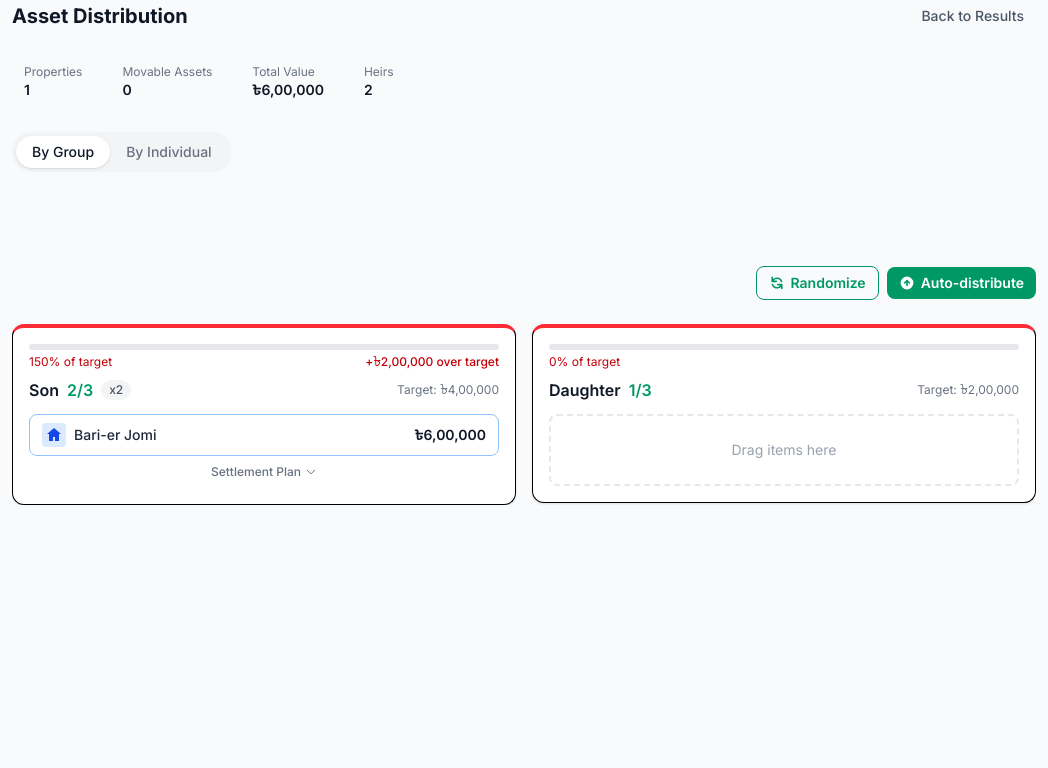
Test case: DistributionPage view toggle › shows section headers for heir types in individual view
Click the tab "By Individual" at [169, 152], box [110,136,228,168]
(page scrolled)
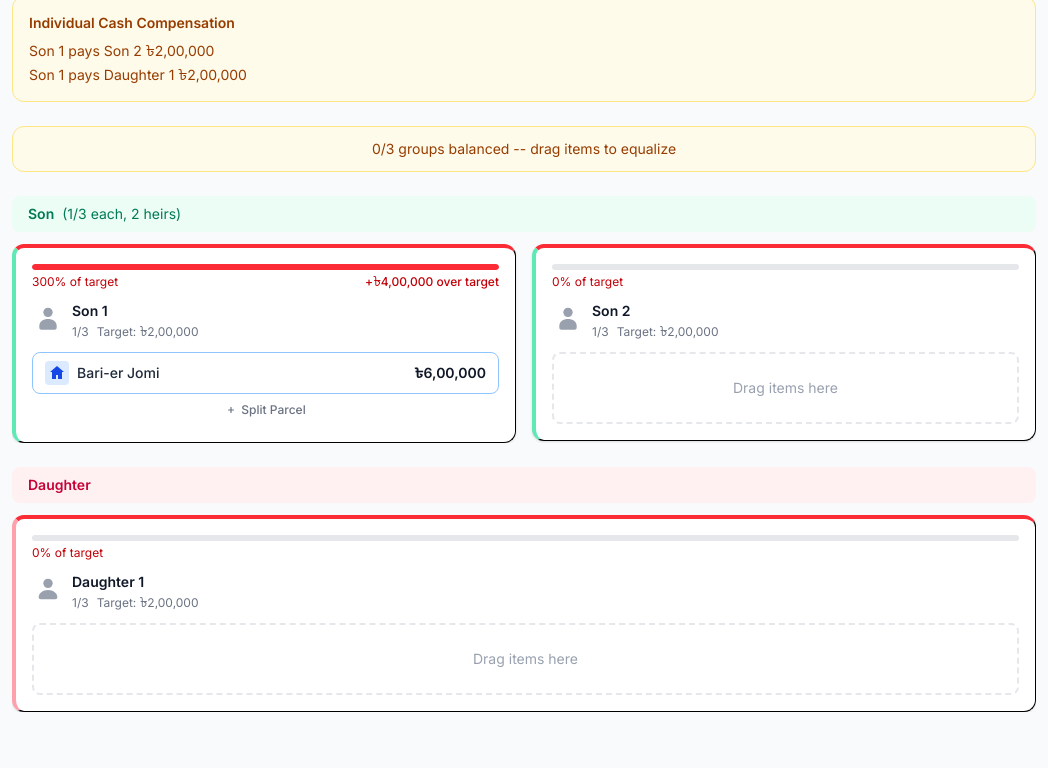
Check: the element named "Son section" is shown, box [12,196,1036,443]
Check: the element named "Daughter section" is shown, box [12,467,1036,712]
